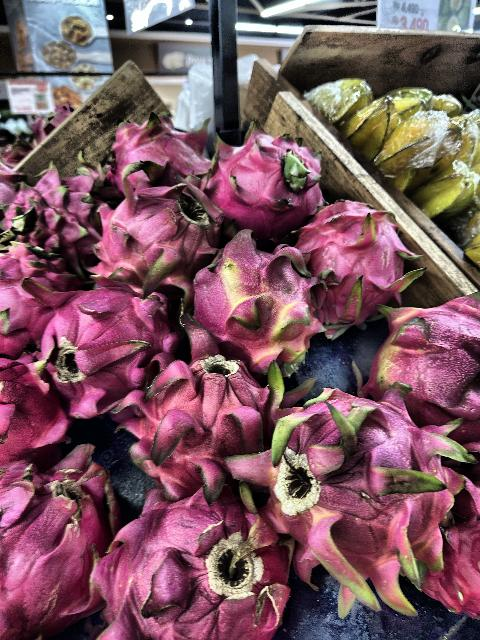buah-naga-belum-matang: (192, 232, 316, 364), (370, 291, 480, 425)
buah-naga-matang: (248, 378, 456, 592), (103, 480, 292, 640), (0, 446, 112, 640), (120, 352, 272, 488), (28, 270, 162, 394), (296, 200, 418, 326), (92, 184, 208, 276), (207, 137, 317, 230), (3, 173, 97, 259), (1, 356, 66, 468), (104, 112, 196, 178), (1, 236, 48, 356)
